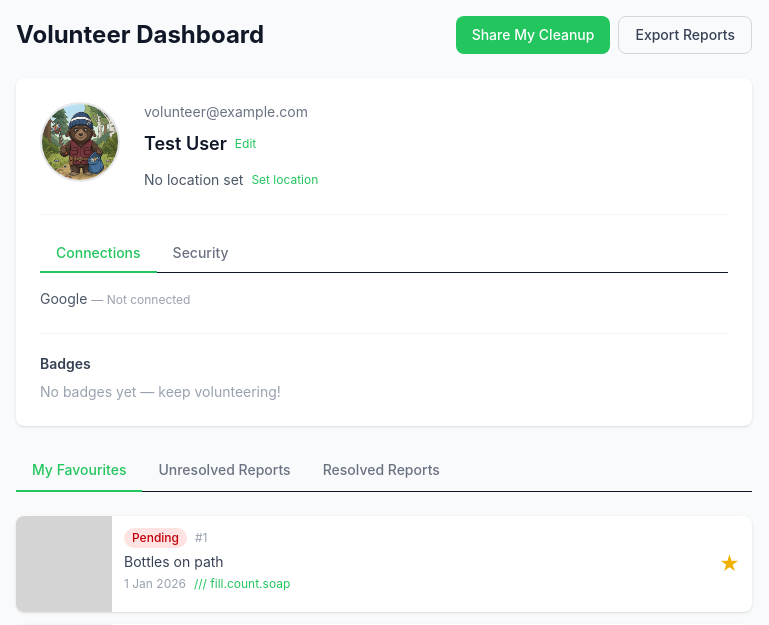
VolunteerDashboard › removes favourite when unstarring on favourites tab
This screenshot has width=769, height=625.
Expected: the text "Bottles on path" is shown, [124, 553, 224, 570]
Click the button titled "Remove from favourites" in the row of "fill.count.soap": (730, 564) [707, 516, 752, 612]
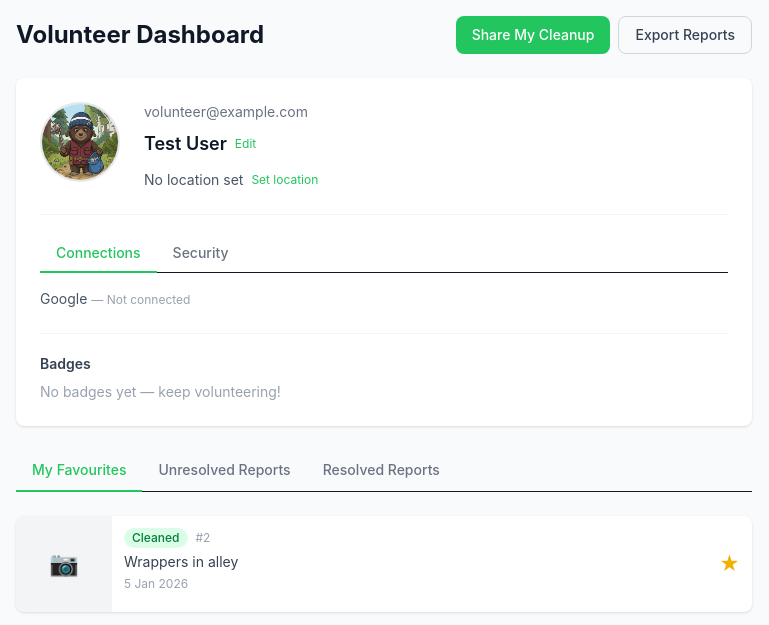
Result: the link "Bottles on path" is gone
